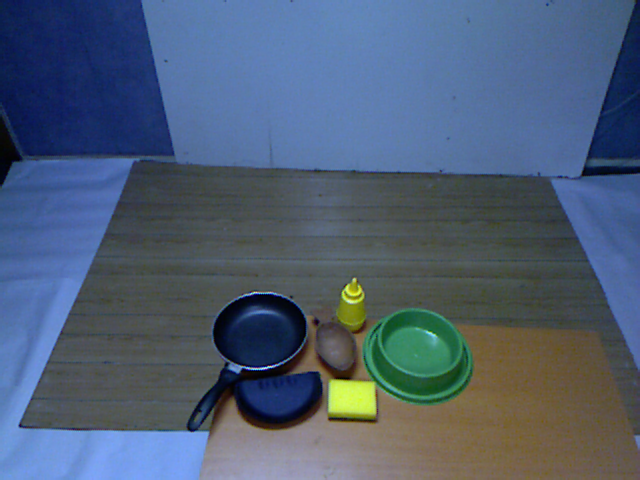esponja: (318, 370, 383, 429)
estuche: (225, 361, 330, 433)
mostaza: (330, 270, 371, 338)
pescado: (298, 301, 365, 383)
platoperro: (358, 300, 481, 408)
sarten: (173, 285, 318, 438)
